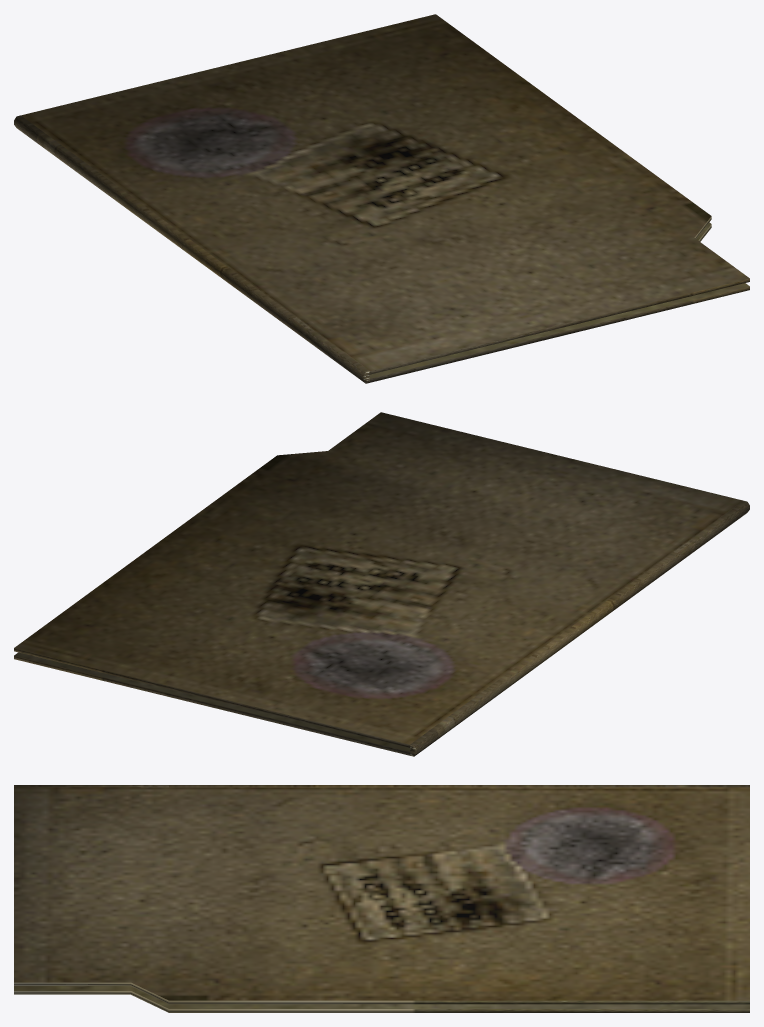
The model's file is office_folder.obj.
3 views of the same model, one above another, from view 1: azimuth 30°, elevation 25°; view 2: azimuth 150°, elevation 25°; view 3: azimuth 270°, elevation 25° (orthographic). The views are drawn at different scales.
Parts seen in each view (by area): view 1: folder_folderShape; view 2: folder_folderShape; view 3: folder_folderShape.
Part boxes in pixels (x1,y1,x2,y2): folder_folderShape: (14, 14, 749, 383); folder_folderShape: (14, 412, 749, 756); folder_folderShape: (14, 785, 749, 1012).
Bounding box in the file's own units: 9.46 × 0.2494 × 13.57.
Materials: 1 (1 with a texture image).
